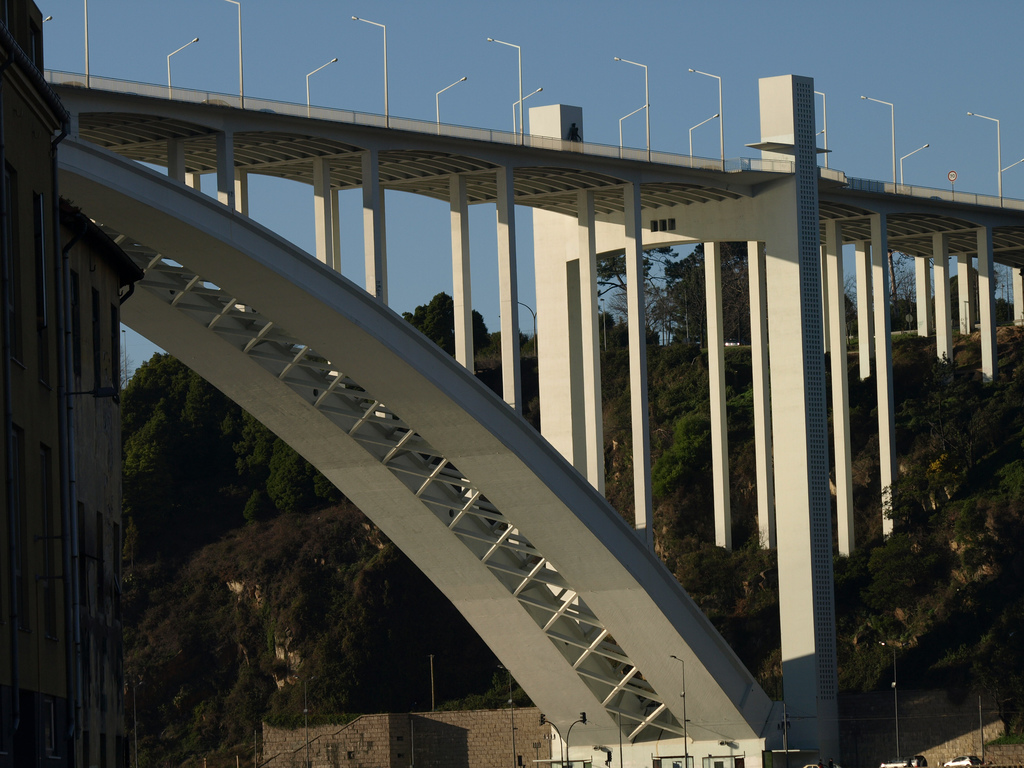arrabida: (41, 65, 1023, 767)
